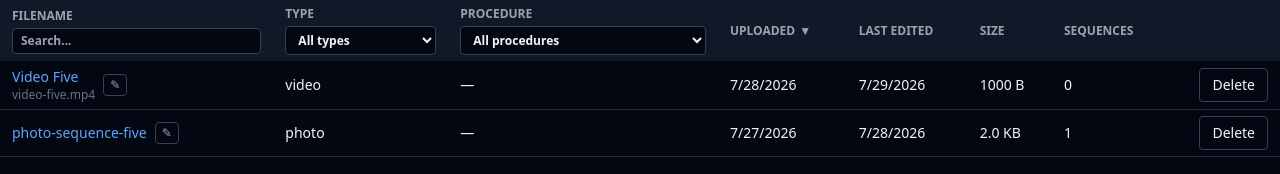
Test case: MediaLibraryTable › keeps confirm state independent for a video and a photo sequence that share the same numeric id
Expected: the text "video-five.mp4" is shown, [12, 87, 95, 103]
Step 1. Click the button "Delete" in the row of "Video Five" → [1234, 85], box [1199, 68, 1268, 102]
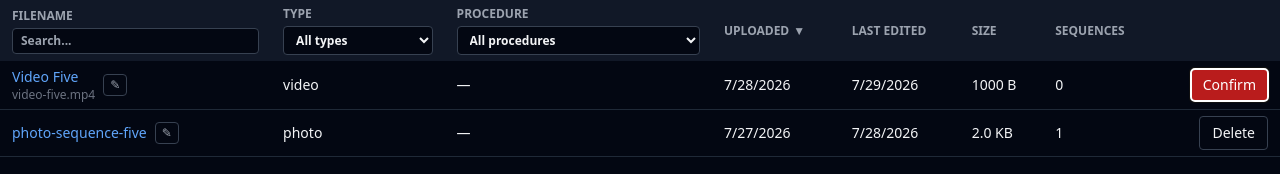
Expected: the button "Delete" is shown, [1199, 116, 1268, 150]
Expected: the button "Confirm" is shown, [1191, 69, 1268, 101]
